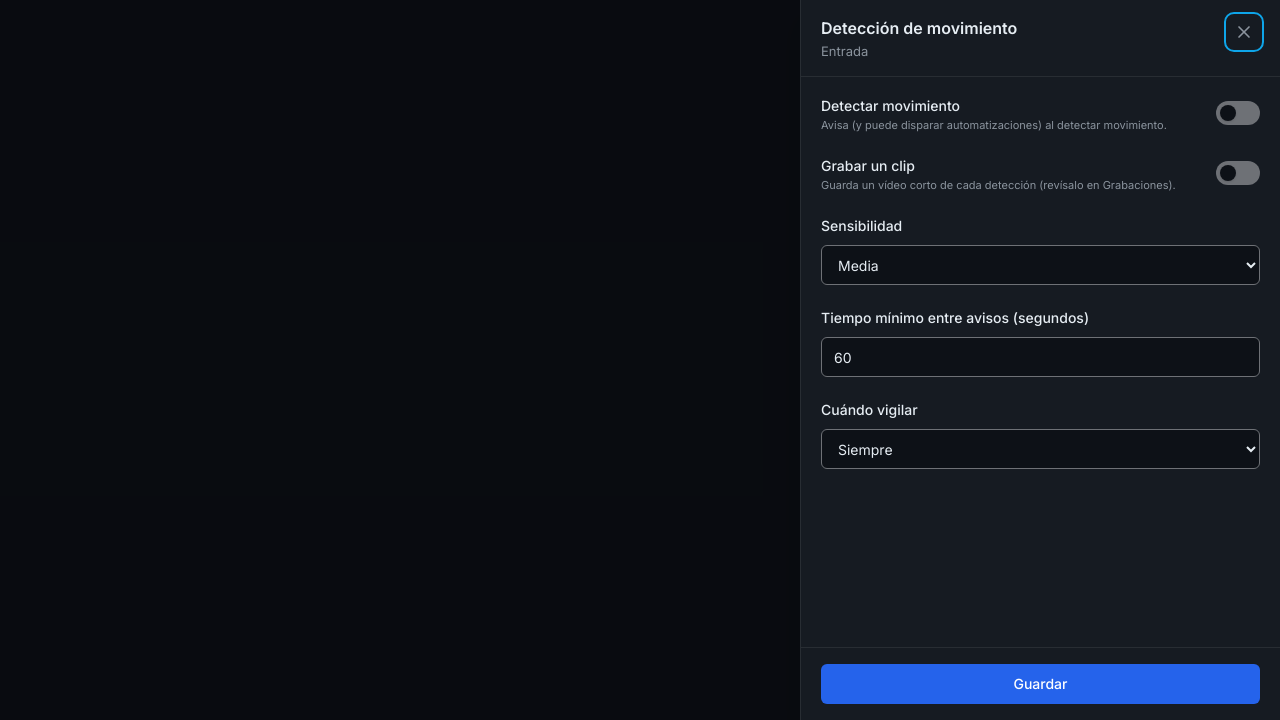
Test: MotionSettingsSlideover (US-186) › el horario aparece solo en modo «según horario»
expect the switch named "Detectar movimiento" is shown: met, box [1216,101,1260,125]
expect the field labelled "Desde" is not shown: met
Select "Según horario" in the dropdown labelled "Cuándo vigilar" at [1040, 449], box [821,429,1260,469]
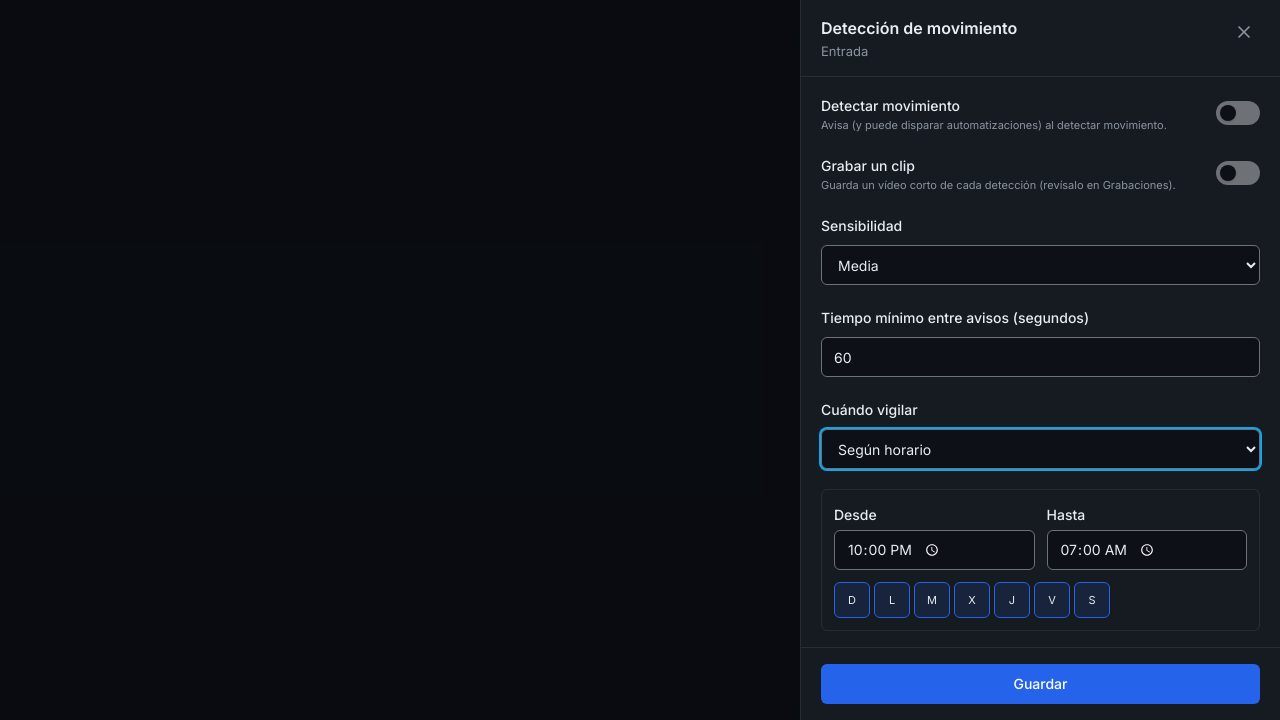
expect the time field labelled "Desde" is shown: met, box [834,530,1034,570]
